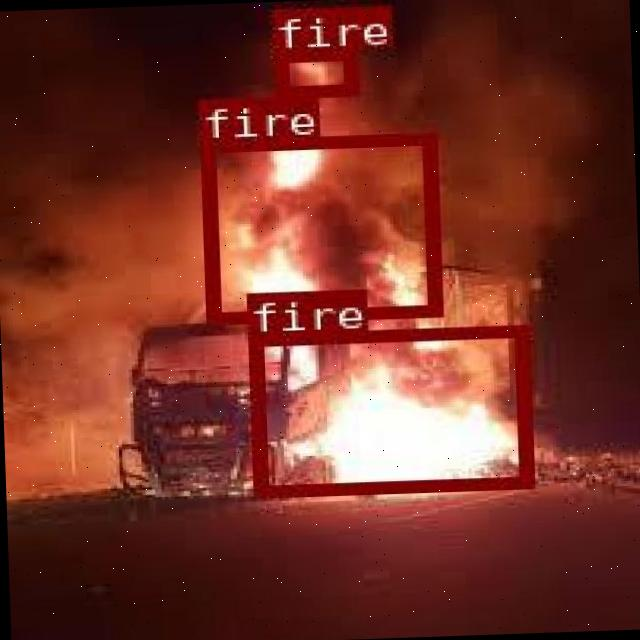fire: (247, 322, 529, 496), (198, 132, 438, 321), (270, 46, 356, 96)
